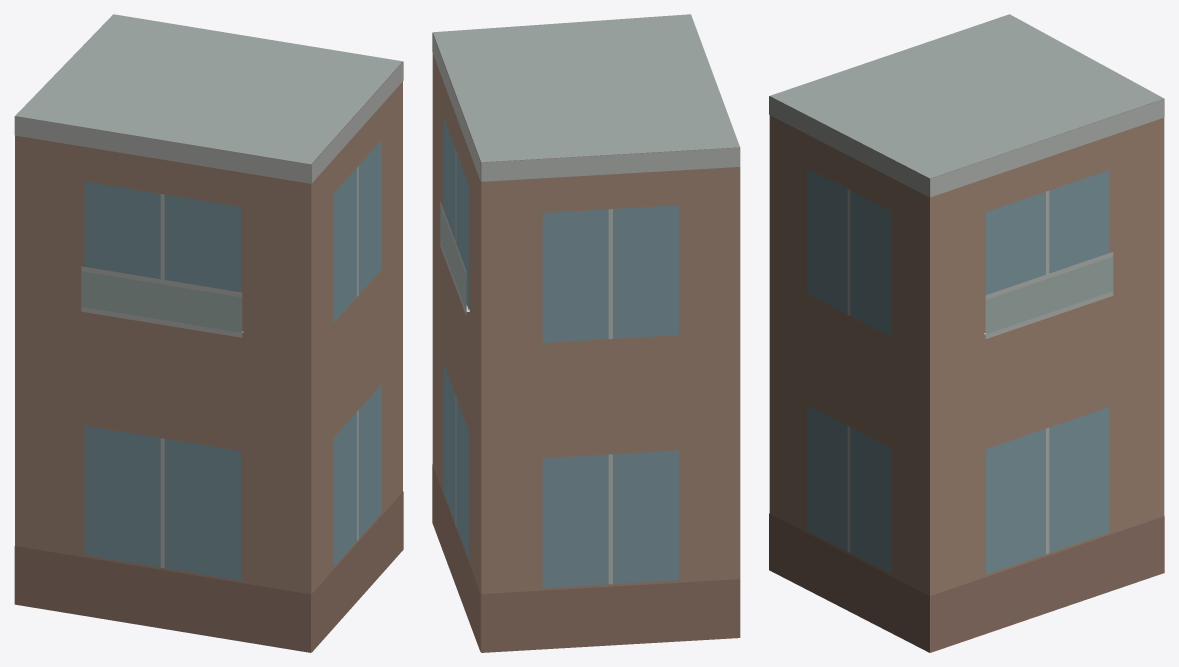
File: survey-upis-32839788.glb
3 renders of one model, left to right at view 1: azimuth 30°, elevation 25°; view 2: azimuth 150°, elevation 25°; view 3: azimuth 270°, elevation 25°, orthographic. The views are drawn at different scales.
Parts seen in each view (by area): view 1: survey-upis-32839788.tmp; view 2: survey-upis-32839788.tmp; view 3: survey-upis-32839788.tmp.
Boxes of the visible parts, bbox=[...] form: survey-upis-32839788.tmp: bbox=[14, 14, 403, 652]; survey-upis-32839788.tmp: bbox=[432, 14, 740, 652]; survey-upis-32839788.tmp: bbox=[769, 14, 1164, 652].
Bounding box in the file's own units: 4.55 × 6.1 × 4.61.
